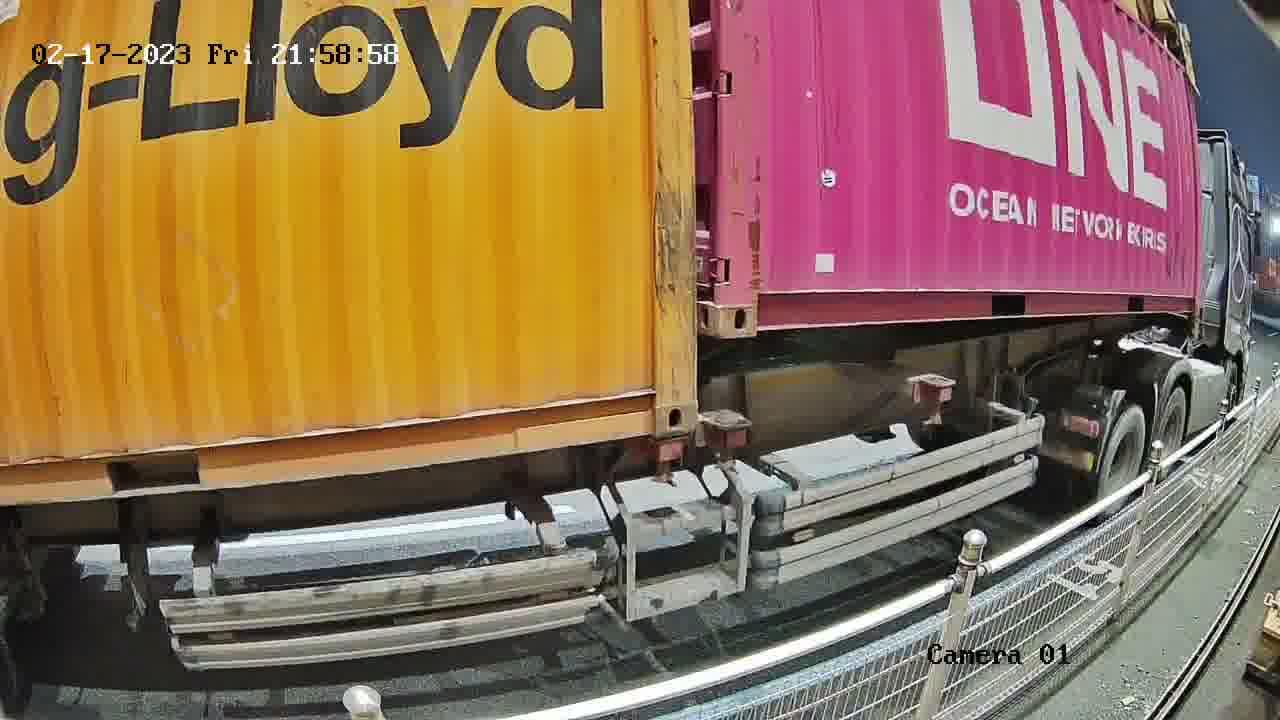Cone: (702, 410, 751, 474), (644, 436, 691, 488)
Hole_L: (717, 258, 801, 340)
Hole_R: (613, 373, 697, 440)
Tire: (1101, 408, 1146, 508), (1155, 389, 1186, 480)
